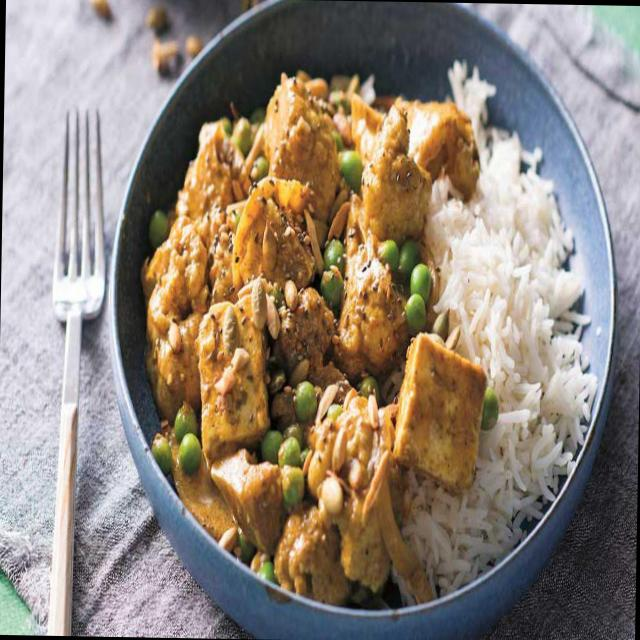rice: (407, 76, 582, 634)
